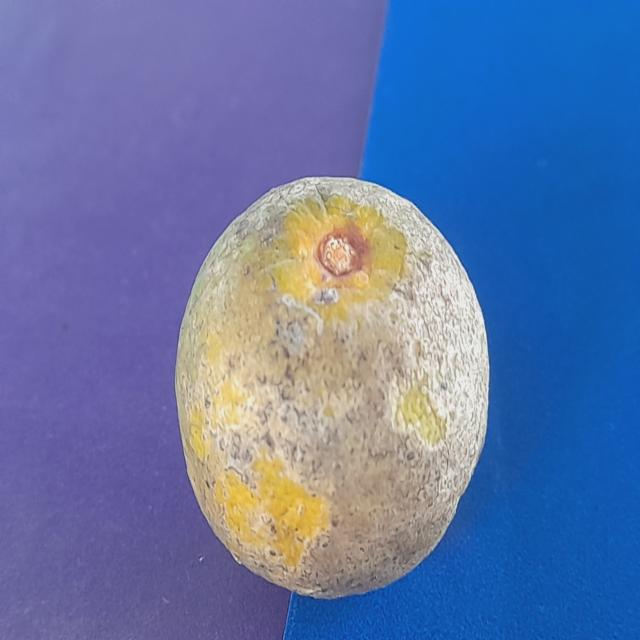thrips: (153, 156, 500, 609)
